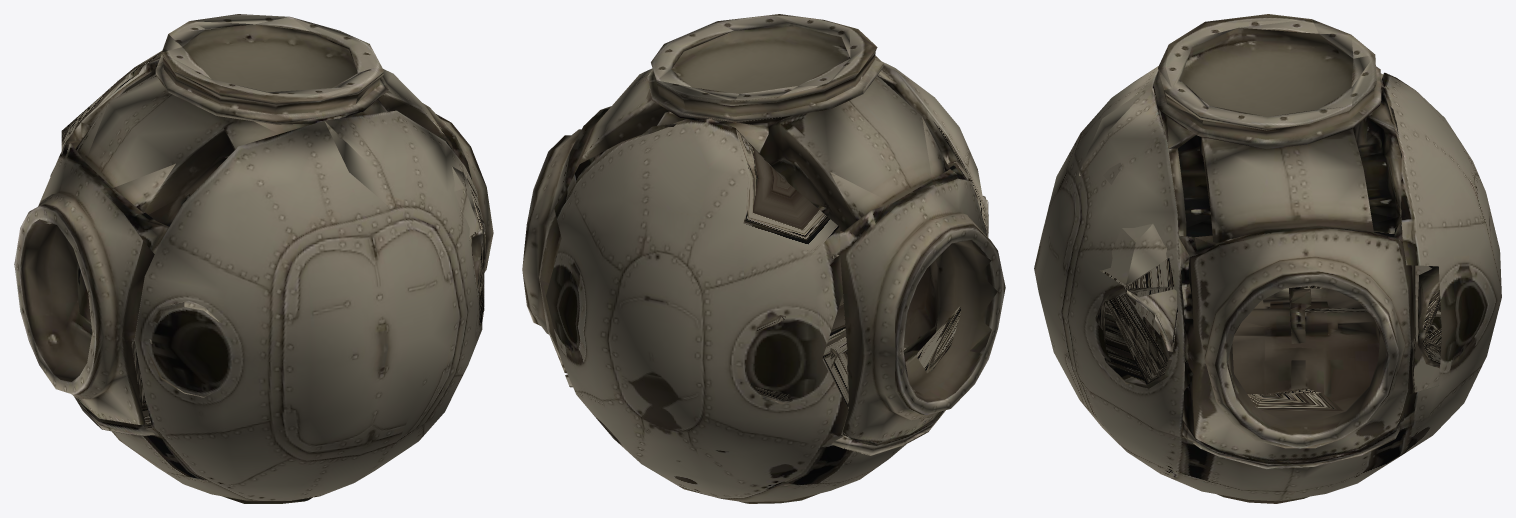
Rendered from ballturret_ng.glb.
The picture shows the model from 3 angles, left to right: view 1: azimuth 30°, elevation 25°; view 2: azimuth 150°, elevation 25°; view 3: azimuth 270°, elevation 25°; orthographic projection.
Parts seen in each view (by area): view 1: tripo_node_706aa691-01f7-4ff3-ade6-eba83; view 2: tripo_node_706aa691-01f7-4ff3-ade6-eba83; view 3: tripo_node_706aa691-01f7-4ff3-ade6-eba83.
Part boxes in pixels (left/top/right/bottom): tripo_node_706aa691-01f7-4ff3-ade6-eba83: left=14, top=14, right=493, bottom=503; tripo_node_706aa691-01f7-4ff3-ade6-eba83: left=522, top=14, right=1005, bottom=503; tripo_node_706aa691-01f7-4ff3-ade6-eba83: left=1034, top=14, right=1501, bottom=503.
Size of the model in its own units: 0.9639 by 0.977 by 0.9804.
1 material, 1 textured.
